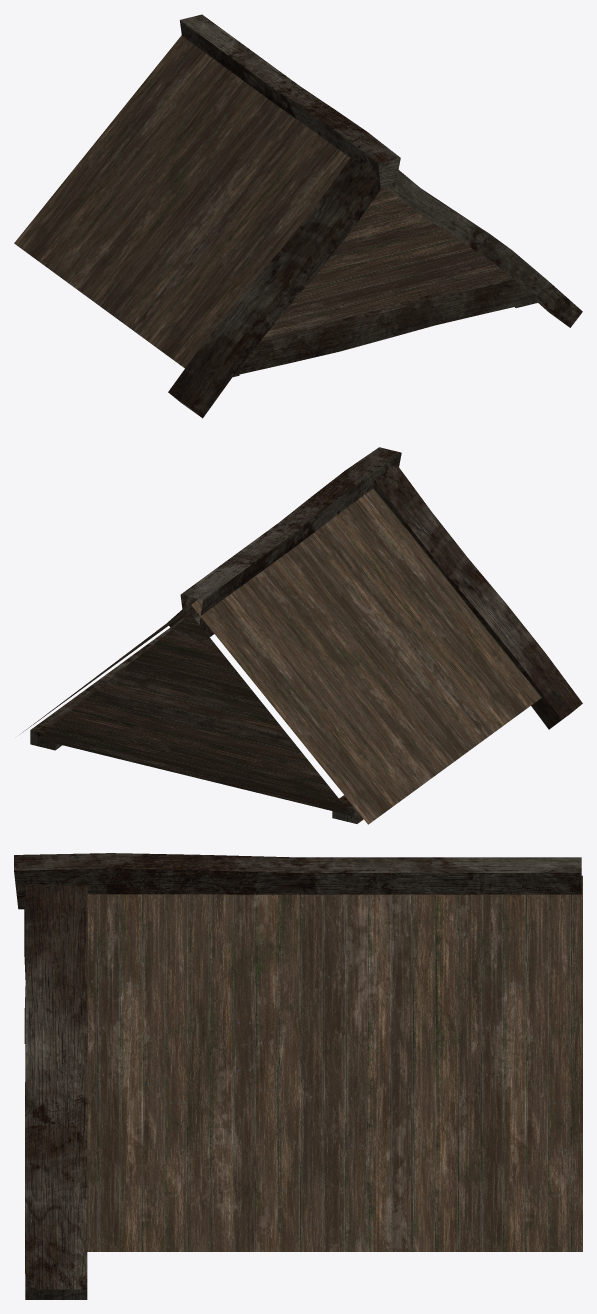
File: WoodRoof1.fbx
The picture shows the model from 3 angles, top to bottom: view 1: azimuth 30°, elevation 25°; view 2: azimuth 150°, elevation 25°; view 3: azimuth 270°, elevation 25°; orthographic projection. The views are drawn at different scales.
Visible parts, largest first — view 1: Wood Roof Addon; view 2: Wood Roof Addon; view 3: Wood Roof Addon.
Part boxes in pixels (<box>): Wood Roof Addon: <box>14,14,582,418</box>; Wood Roof Addon: <box>22,447,582,824</box>; Wood Roof Addon: <box>14,853,582,1299</box>.
Size of the model in its own units: 509 by 268 by 445.
